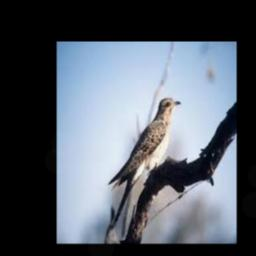Cuckoo: (108, 97, 180, 228)
